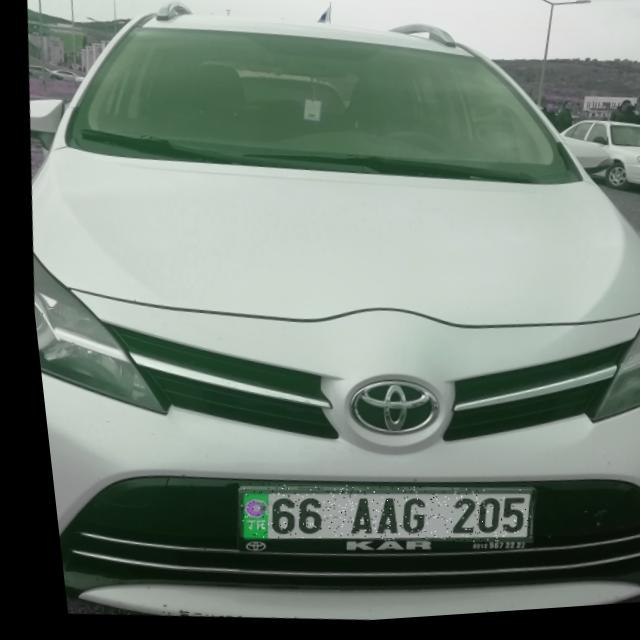license_plate: (222, 470, 525, 565)
